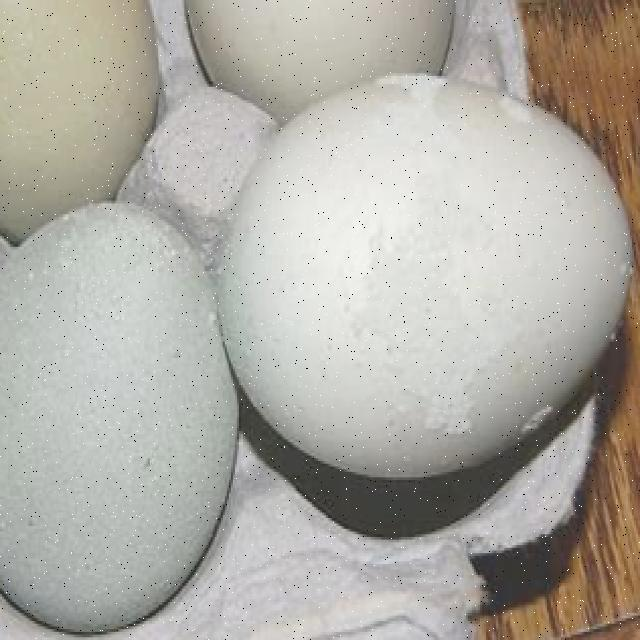Blood Stained Egg: (219, 58, 639, 518)
Calcium Deposit Egg: (0, 173, 239, 640)
